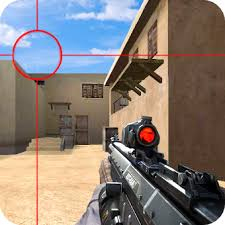gun: (98, 112, 224, 223)
